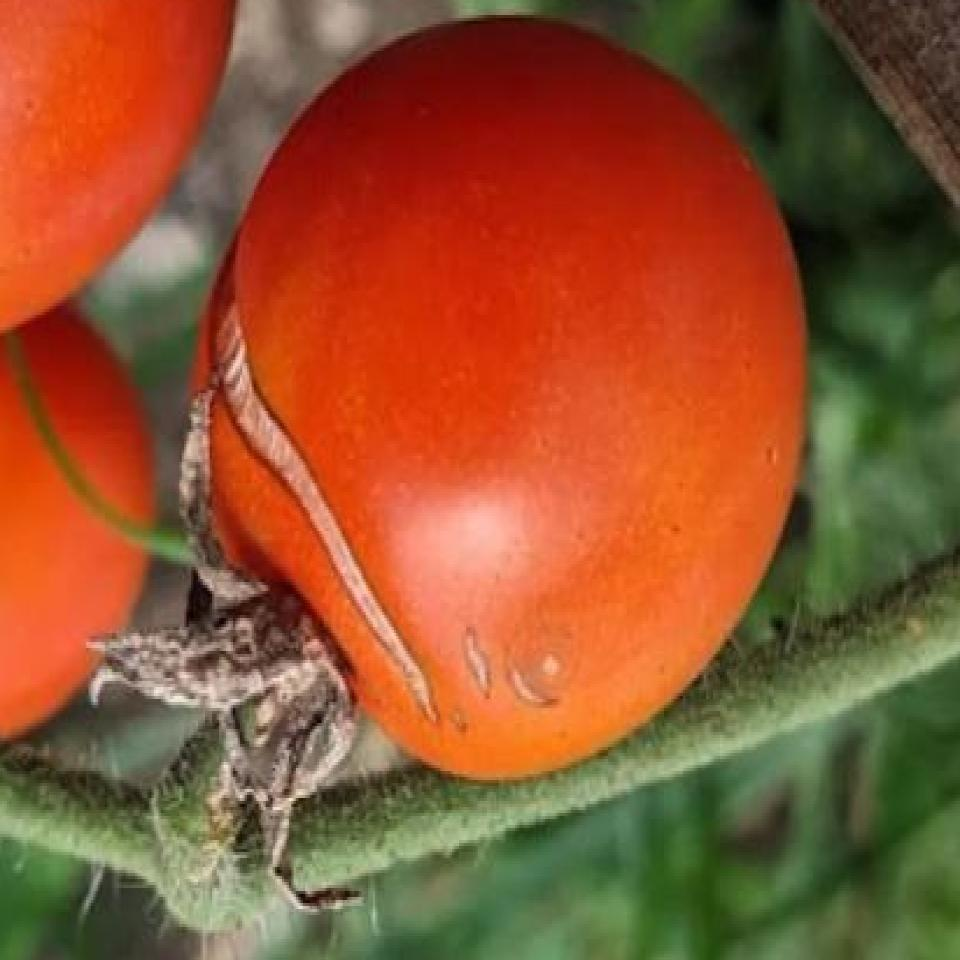Cracking: (201, 296, 433, 734), (445, 606, 559, 756)
